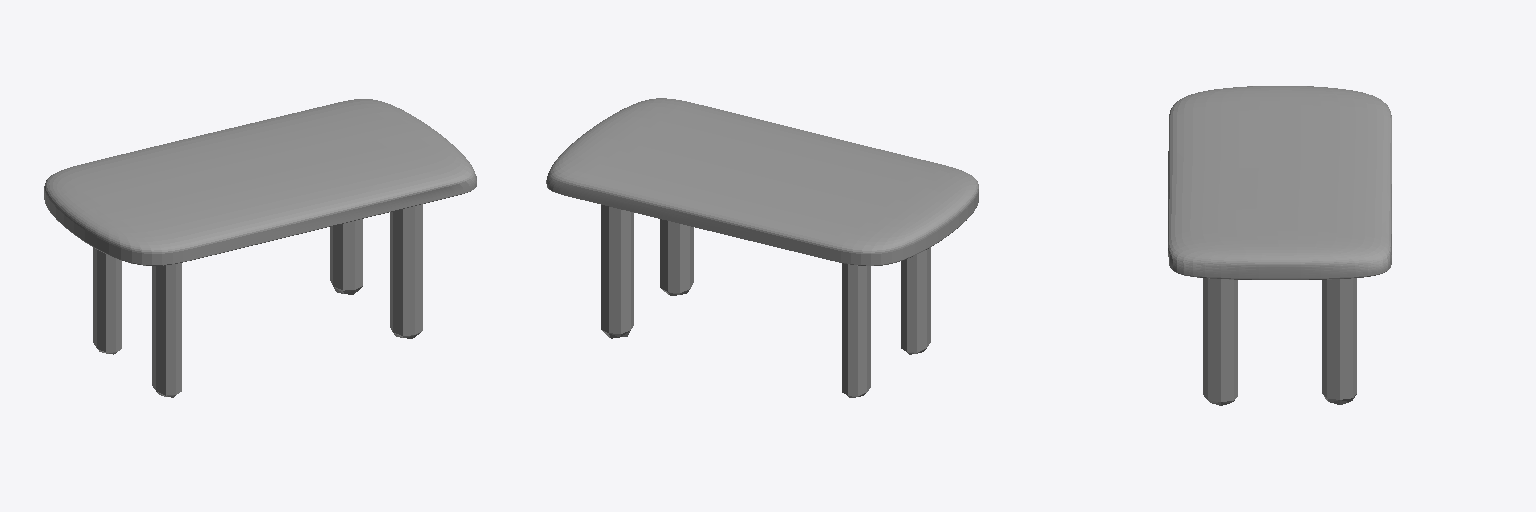
Rendered from miza.obj.
3 renders of one model, left to right at view 1: azimuth 30°, elevation 25°; view 2: azimuth 150°, elevation 25°; view 3: azimuth 270°, elevation 25°, orthographic.
Visible parts, largest first — view 1: Cube.003; view 2: Cube.003; view 3: Cube.003.
Part boxes in pixels (bbox=[...]): Cube.003: bbox=[44, 99, 476, 397]; Cube.003: bbox=[546, 98, 978, 397]; Cube.003: bbox=[1168, 86, 1391, 405].
Bounding box in the file's own units: 10.7 × 4.96 × 5.74.